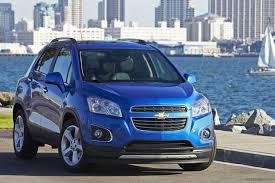car: (14, 34, 211, 170)
